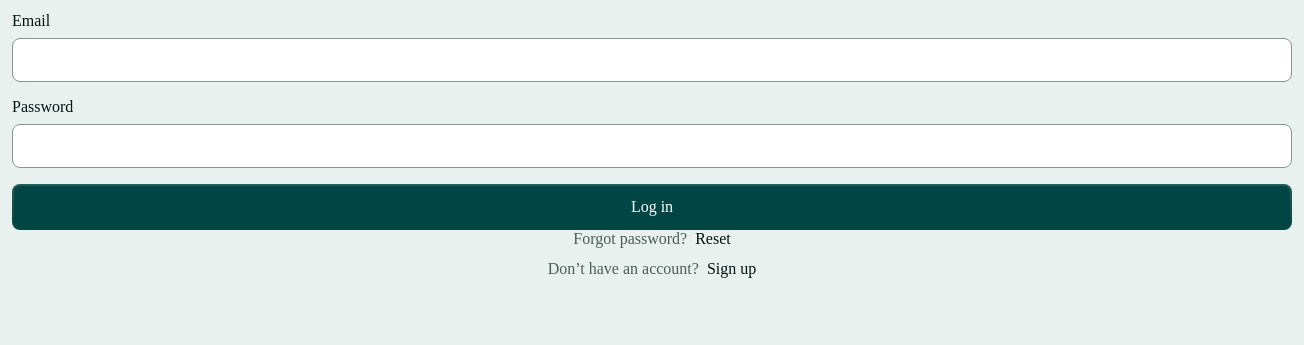
Test: Sign in flow › shows the better auth error message and does not redirect the user
In the field labelled "Email": (652, 60) [12,38,1292,82], type "valid@email.com"
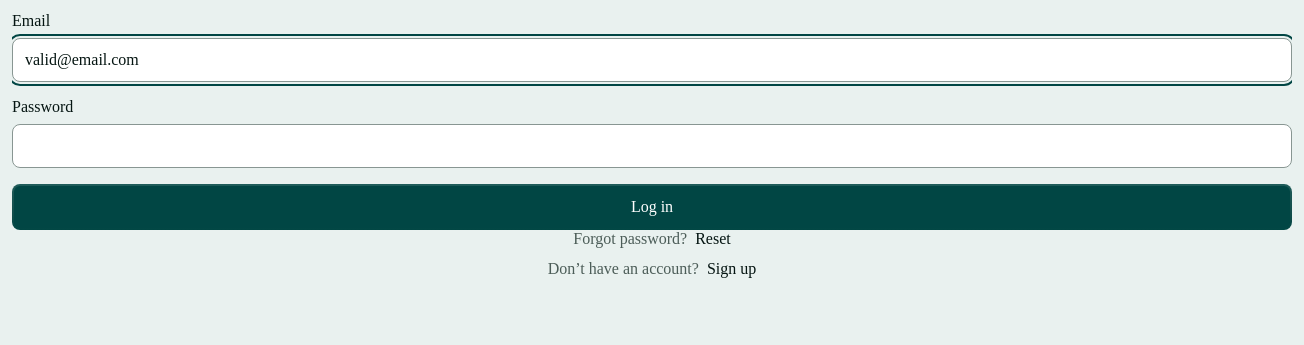
In the password field labelled "Password": (652, 146) [12,124,1292,168], type "Password123"
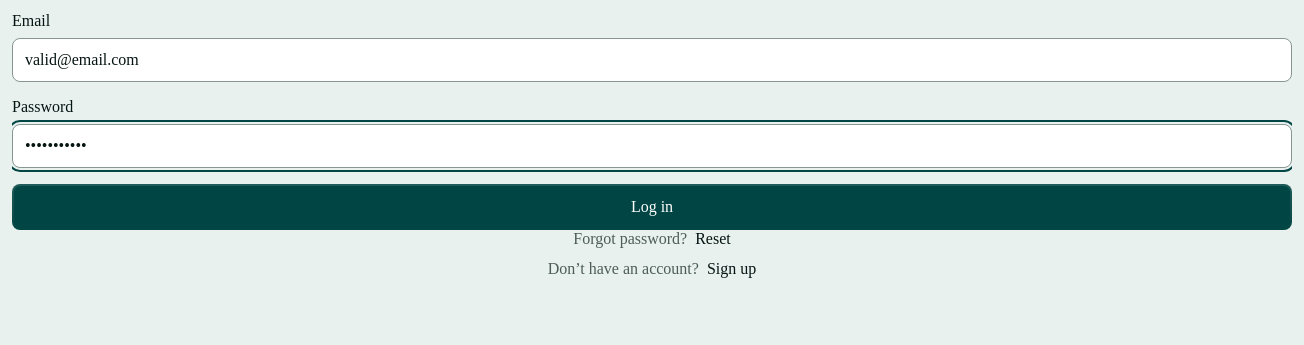
Click the button "Log in": (652, 207) [12,184,1292,230]
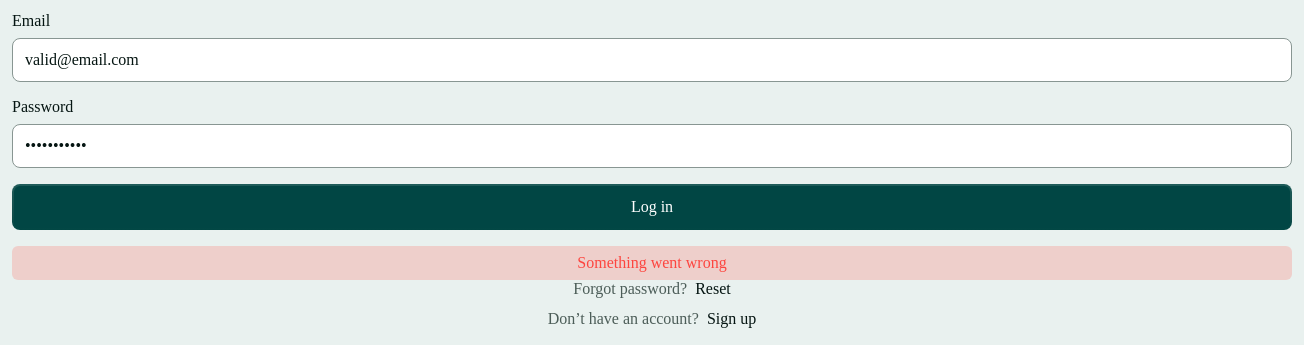
Now the text "Something went wrong" is shown, box [12,246,1292,280]
